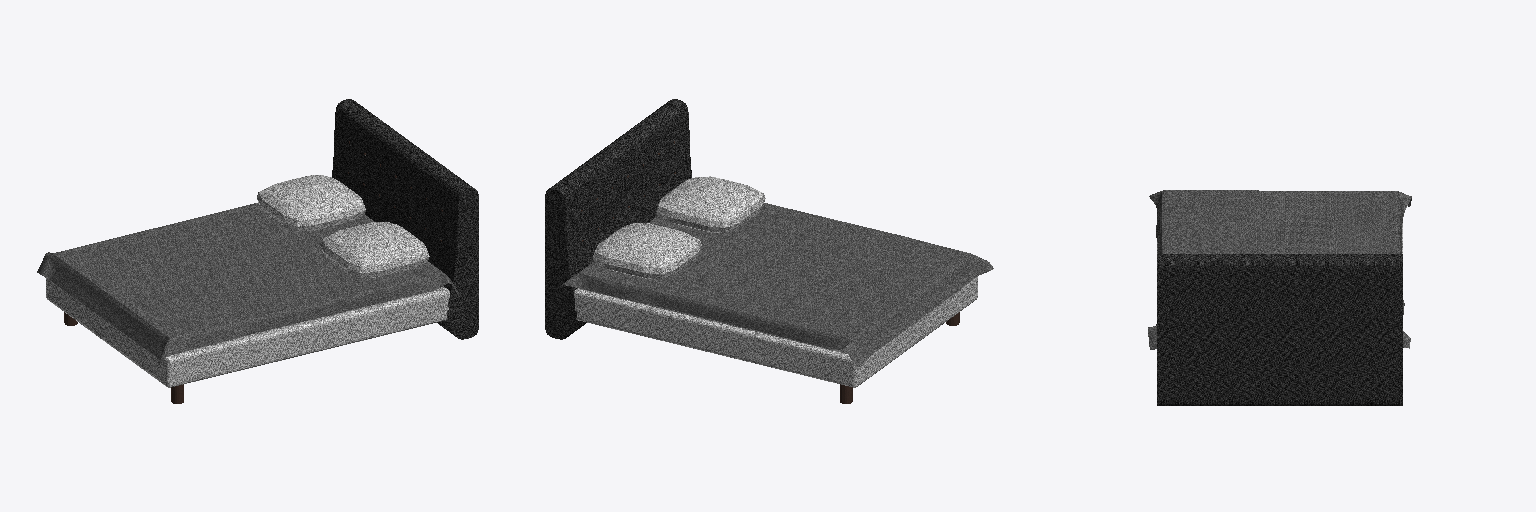
The picture shows the model from 3 angles: view 1: azimuth 30°, elevation 25°; view 2: azimuth 150°, elevation 25°; view 3: azimuth 270°, elevation 25°; orthographic projection.
Parts seen in each view (by area): view 1: Plane004, ???????_2, ???????, Box043, Box042; view 2: Plane004, ???????_2, ???????, Box043, Box042; view 3: ???????_2, Plane004.
Boxes of the visible parts, box(x1,y1,x2,y2) form: Plane004: box(37, 203, 458, 363); ???????_2: box(332, 99, 478, 339); ???????: box(46, 278, 449, 387); Box043: box(320, 222, 429, 277); Box042: box(257, 175, 365, 231); Plane004: box(557, 203, 993, 366); ???????_2: box(545, 99, 691, 339); ???????: box(574, 277, 977, 387); Box043: box(656, 176, 765, 232); Box042: box(593, 223, 701, 278); ???????_2: box(1157, 254, 1402, 405); Plane004: box(1148, 190, 1411, 349).
Bounding box in the file's own units: 89.33 × 39.37 × 63.47.
5 materials, 4 textured.